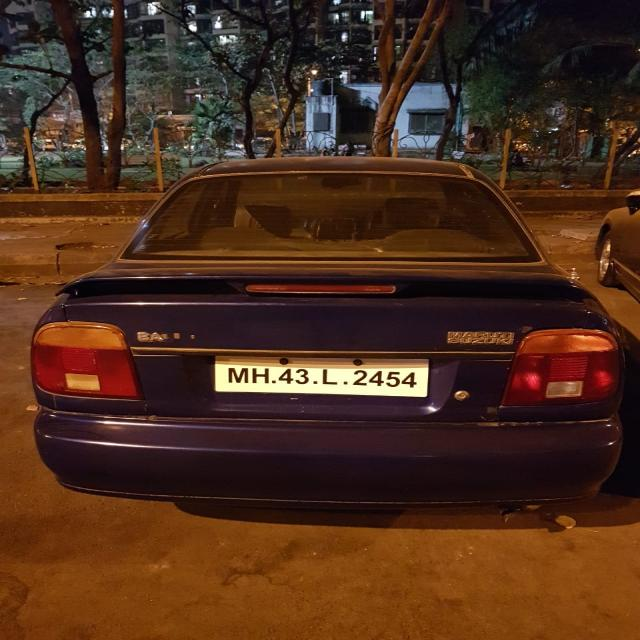Number-Plate: (210, 355, 424, 395)
